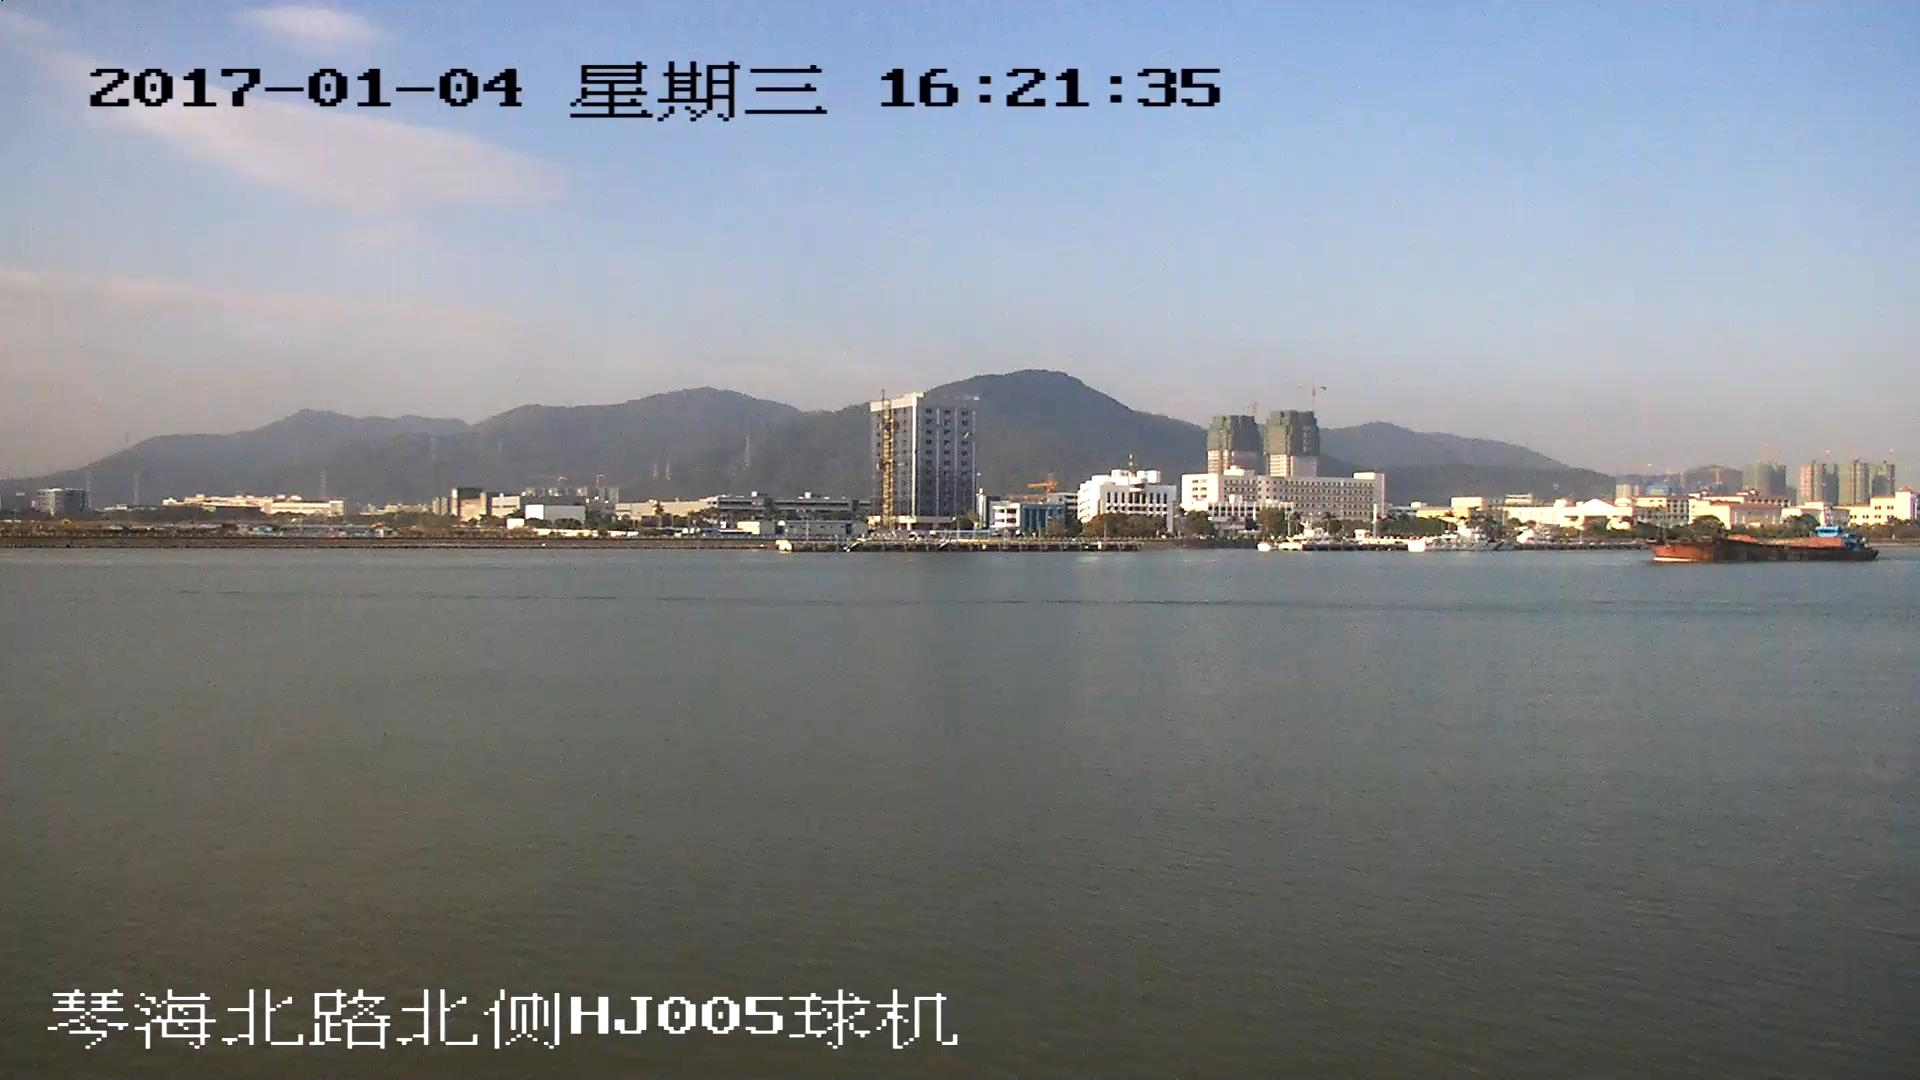bulk cargo carrier: (1627, 517, 1874, 563)
